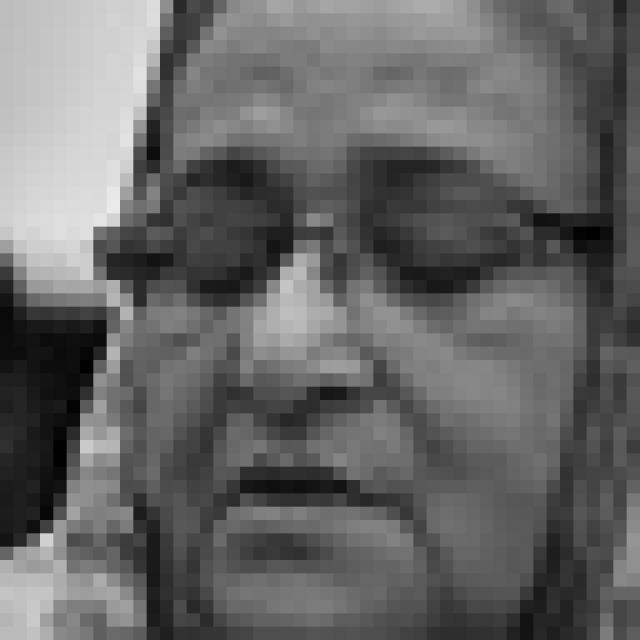sad: (162, 137, 537, 566)
